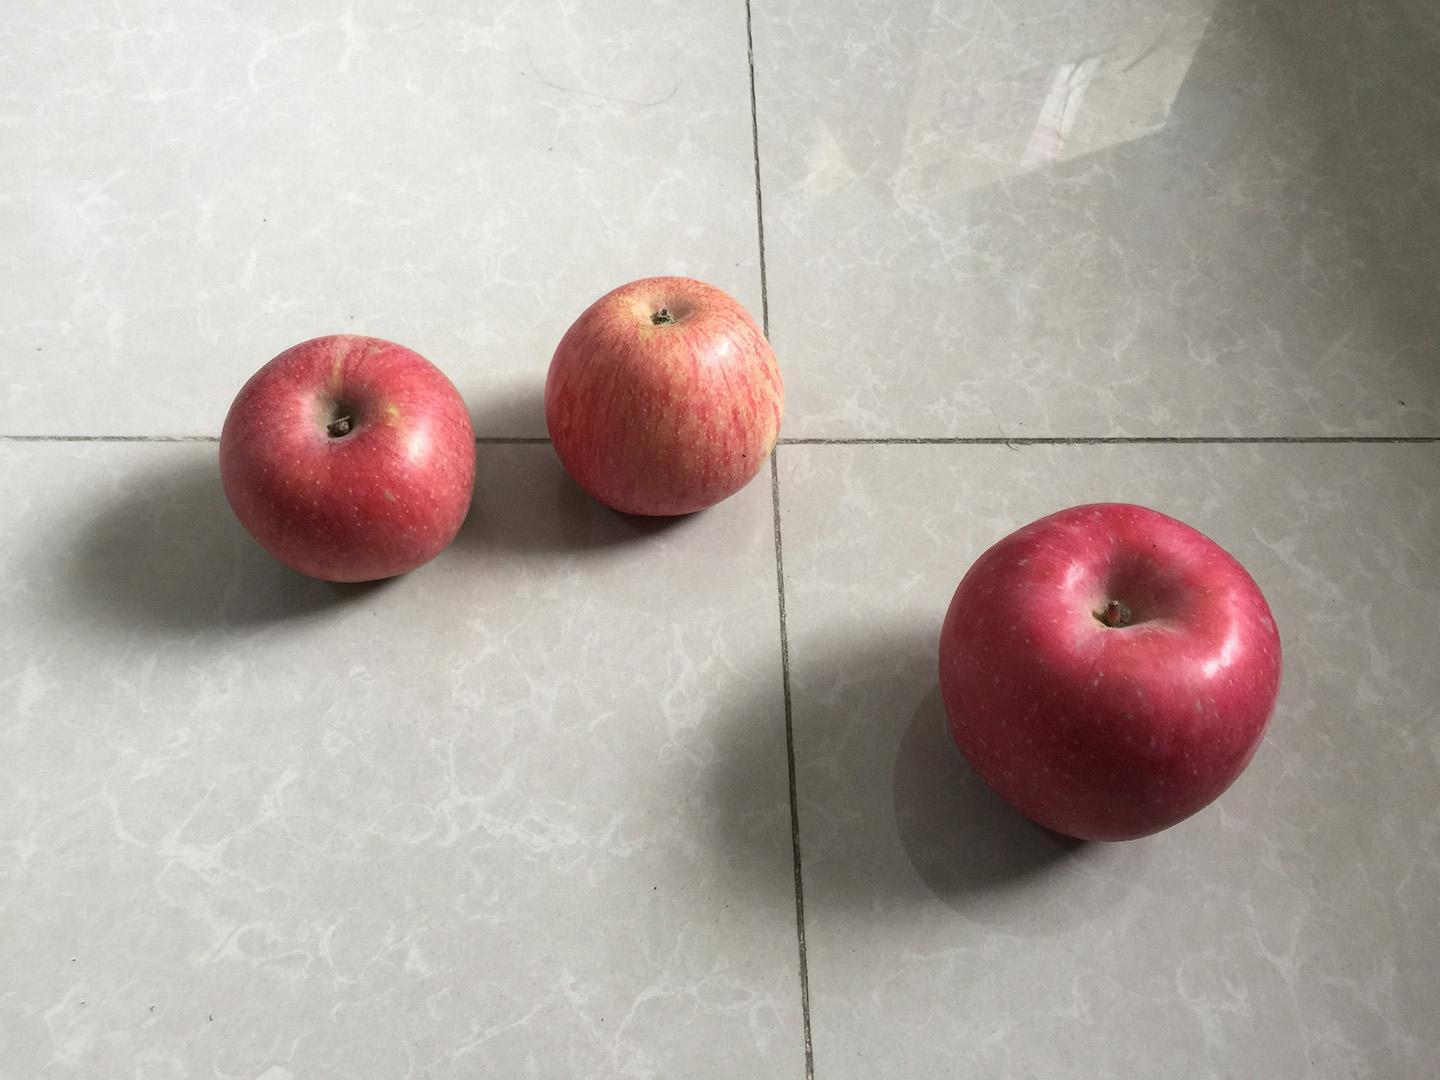apple: (933, 495, 1290, 850), (211, 327, 484, 592), (540, 271, 790, 524)
